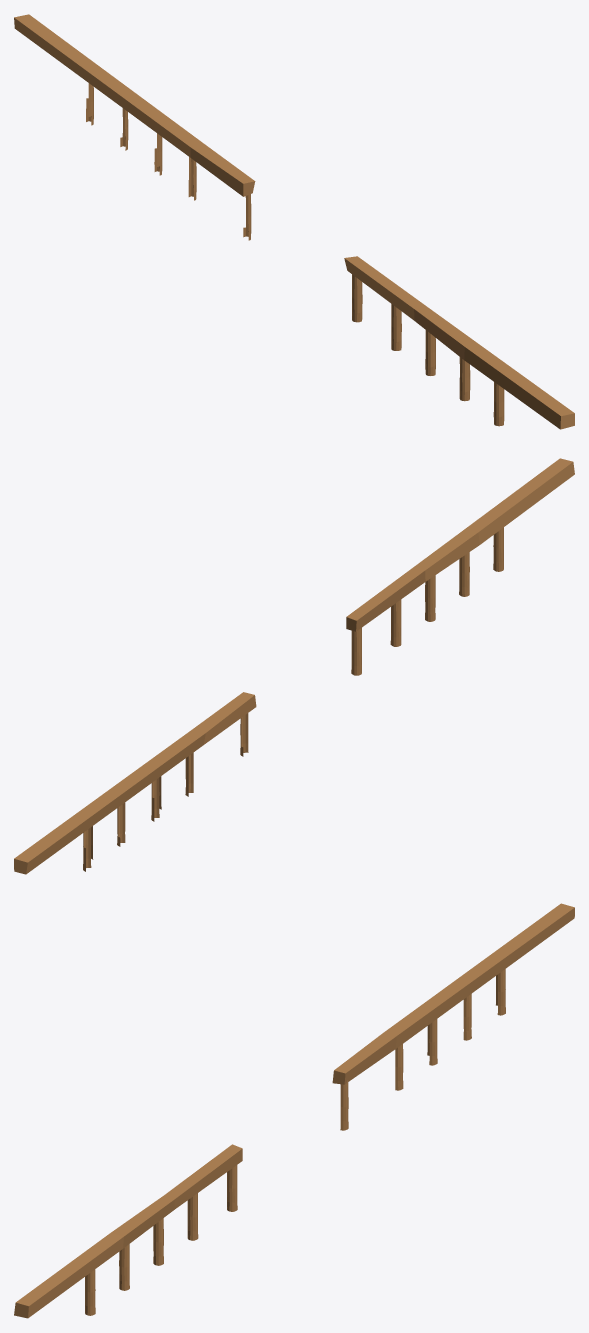
File: Boat_Barrier_Open.fbx
The picture shows the model from 3 angles, top to bottom: view 1: azimuth 30°, elevation 25°; view 2: azimuth 150°, elevation 25°; view 3: azimuth 330°, elevation 25°; orthographic projection.
Visible parts, largest first — view 1: Boat_Barrier_Open; view 2: Boat_Barrier_Open; view 3: Boat_Barrier_Open.
Boxes of the visible parts, box(x1,y1,x2,y2) form: Boat_Barrier_Open: box(14, 14, 574, 429); Boat_Barrier_Open: box(14, 458, 574, 874); Boat_Barrier_Open: box(14, 903, 574, 1318).
Size of the model in its own units: 3202 by 52.19 by 193.
